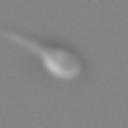normal: (1, 25, 45, 54)
